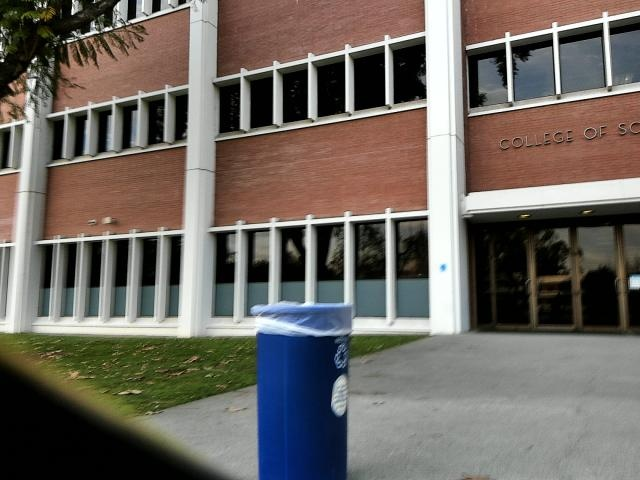trashcan_open: (249, 299, 364, 480)
